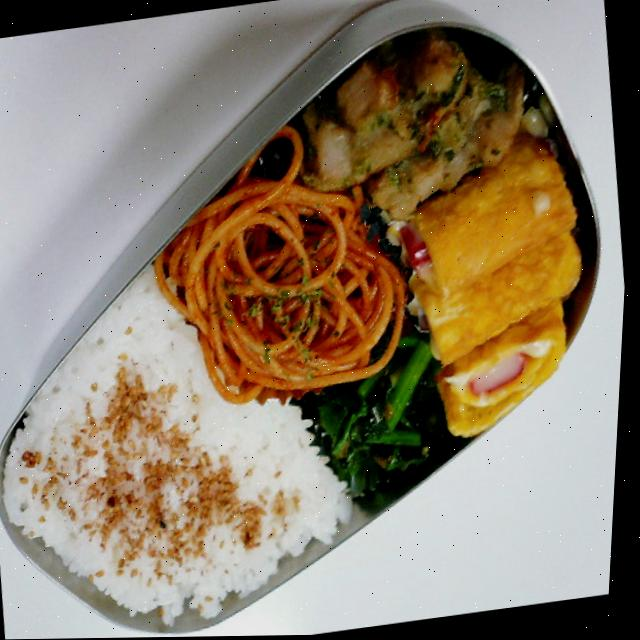米饭主食: (0, 269, 342, 640)
面条主食: (128, 169, 420, 443)
鸡蛋料理: (375, 137, 622, 447)
